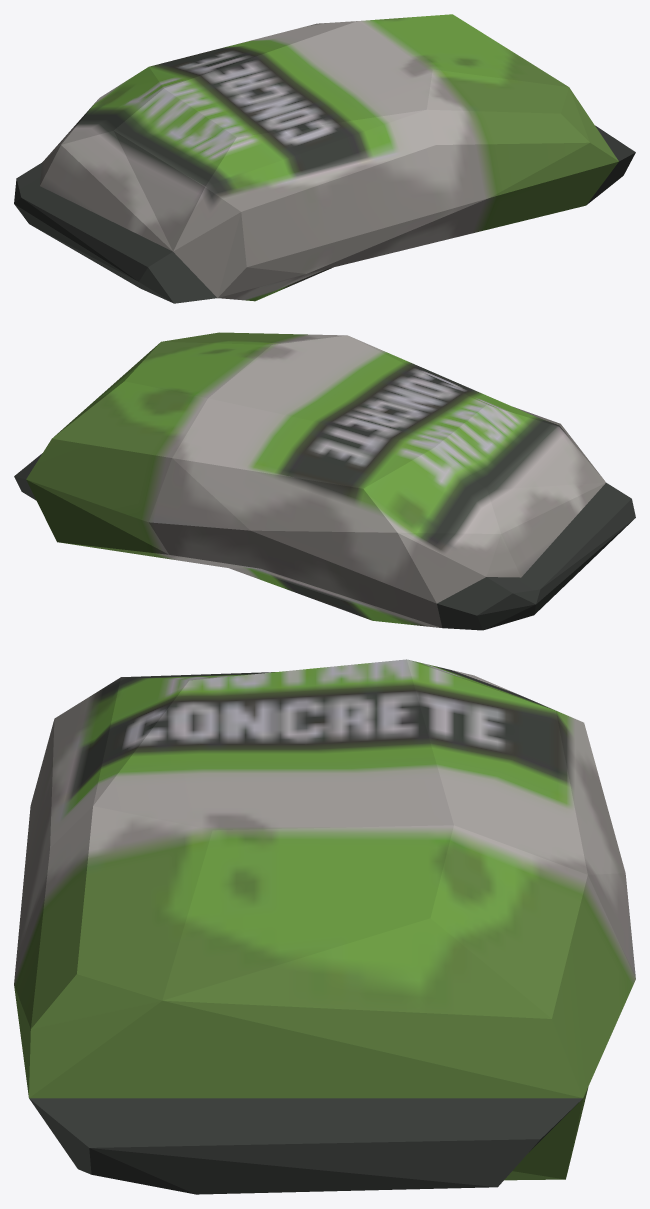
Rendered from SM_Prop_ConcreteBag_01.obj.
3 renders of one model, top to bottom at view 1: azimuth 30°, elevation 25°; view 2: azimuth 150°, elevation 25°; view 3: azimuth 270°, elevation 25°, orthographic. The views are drawn at different scales.
Visible parts, largest first — view 1: SM_Prop_ConcreteBag_01_0; view 2: SM_Prop_ConcreteBag_01_0; view 3: SM_Prop_ConcreteBag_01_0.
Boxes of the visible parts, bbox=[...] form: SM_Prop_ConcreteBag_01_0: bbox=[14, 14, 635, 303]; SM_Prop_ConcreteBag_01_0: bbox=[14, 332, 635, 630]; SM_Prop_ConcreteBag_01_0: bbox=[14, 659, 635, 1194].
Bounding box in the file's own units: 0.8026 × 0.2474 × 0.485.
Materials: 1 (1 with a texture image).
